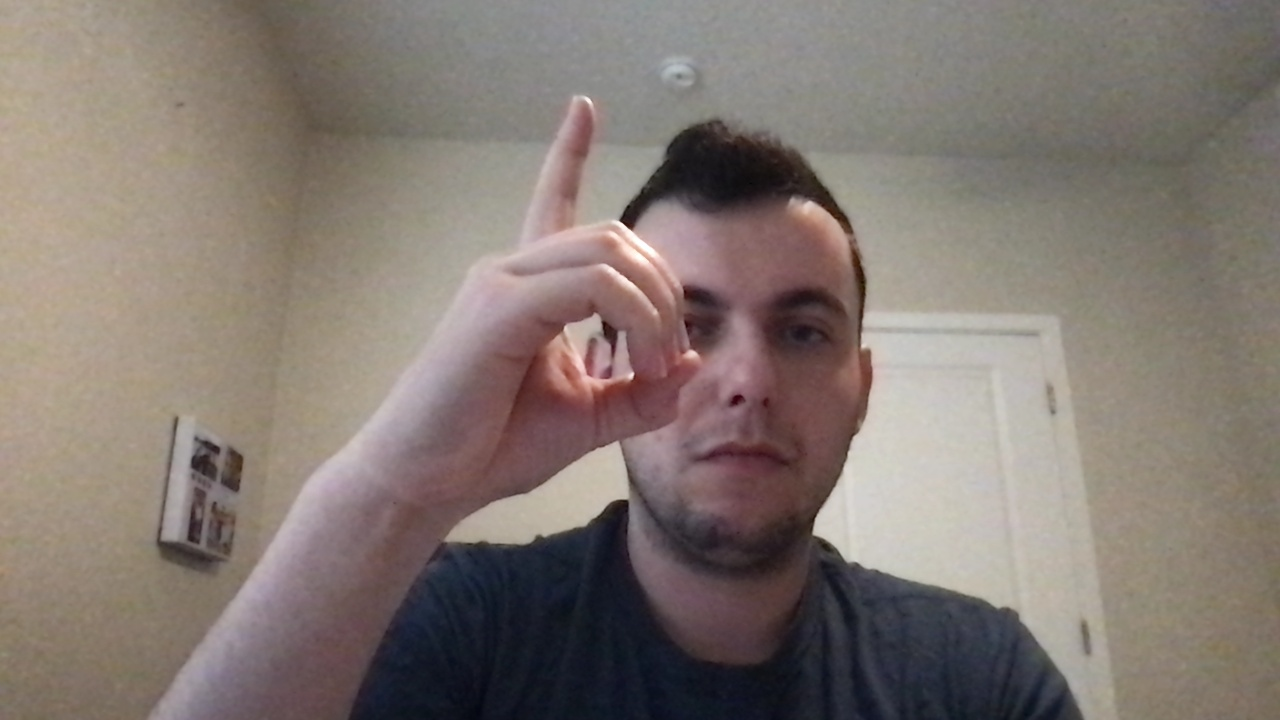d: (340, 89, 745, 499)
